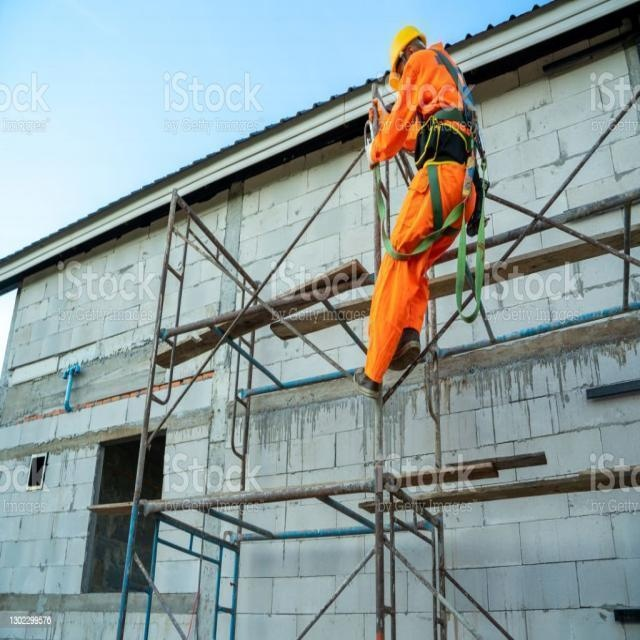Arnes_seguridad: (428, 45, 484, 241)
